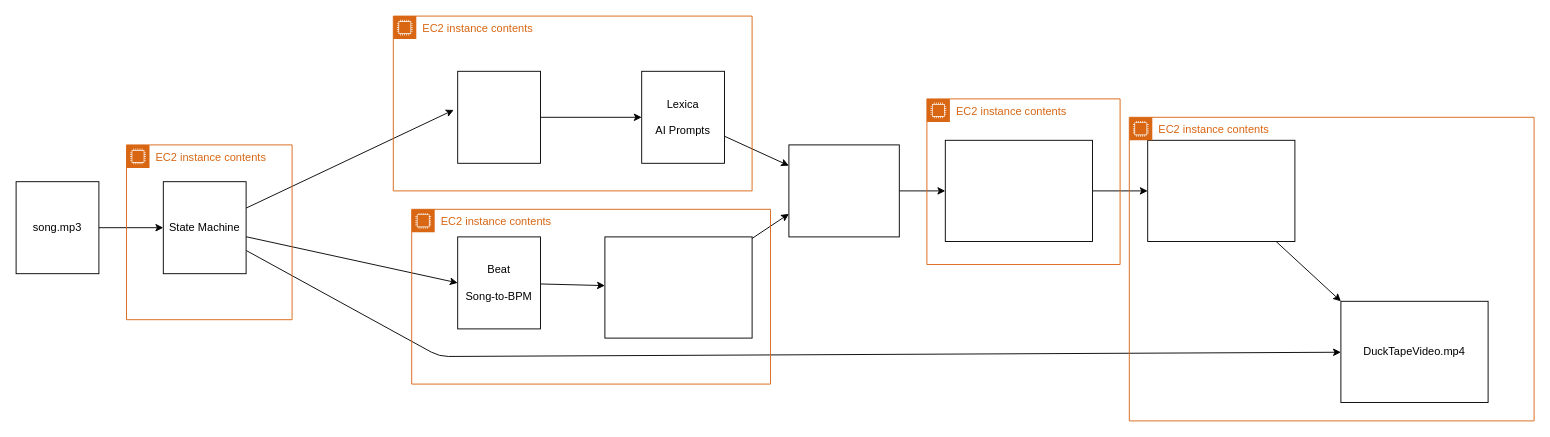
This 1550x437 diagram has some shape labels left out. Here are the shapes that lost their labels. From the top down, the centre of each, then its label:
the point at 498,116: Lyrics
the point at 843,190: Settings/Prompts JSON
the point at 1018,190: StableDiffusion Deforum Plugin
the point at 1221,190: video.mp4
the point at 678,287: Boogie BPM-to-Prompt-JSON
